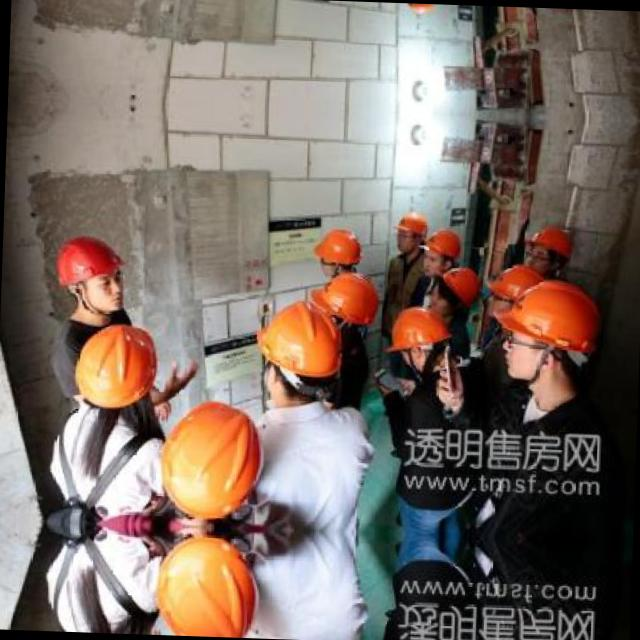helmet: (153, 400, 268, 519), (148, 532, 264, 636), (500, 274, 602, 382), (252, 296, 340, 404), (70, 318, 164, 412), (51, 233, 134, 314), (304, 269, 386, 333), (390, 302, 449, 371), (487, 258, 543, 322), (426, 262, 482, 316), (524, 216, 574, 274), (313, 224, 366, 278), (420, 225, 460, 272), (389, 210, 428, 258), (398, 2, 438, 12)
